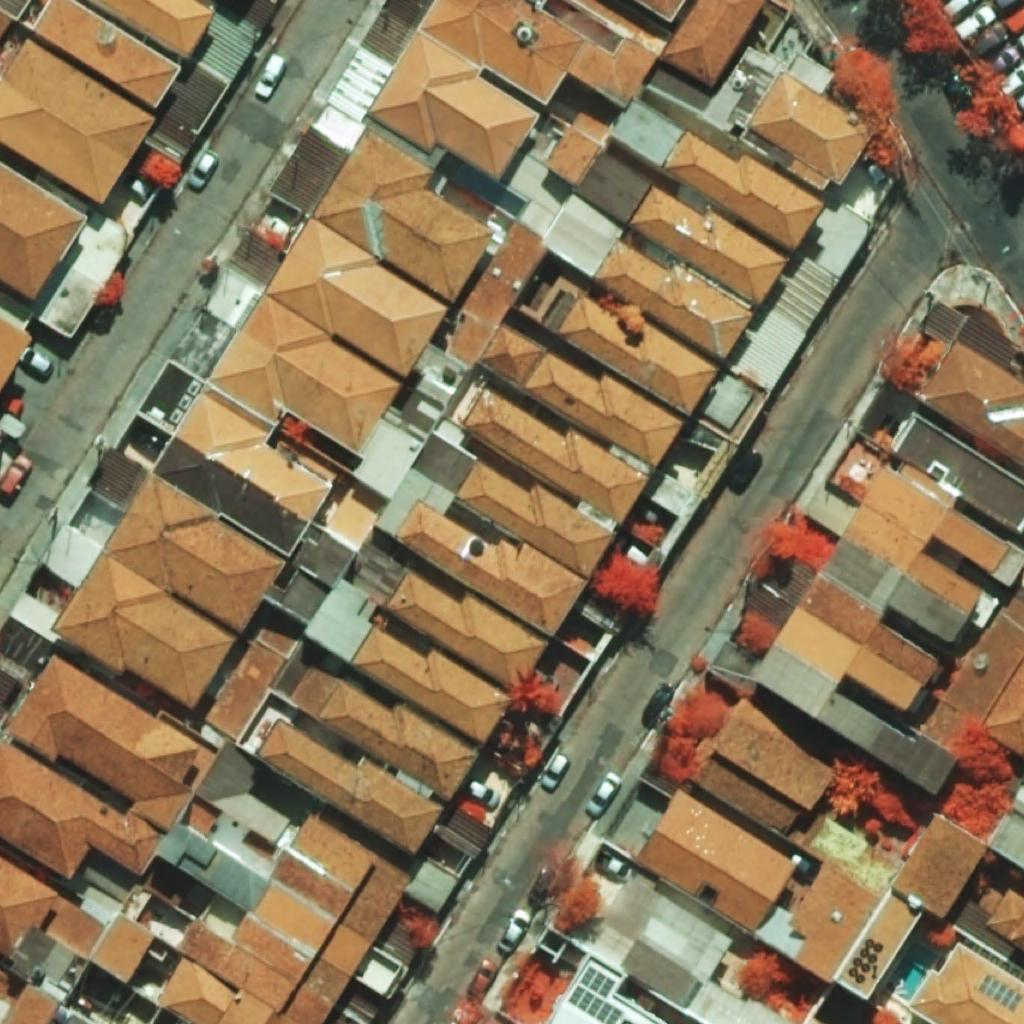pool: (890, 941, 938, 1001)
